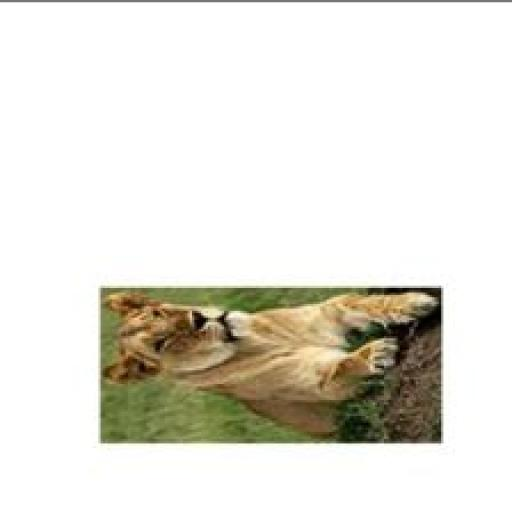lion: (85, 274, 458, 450)
